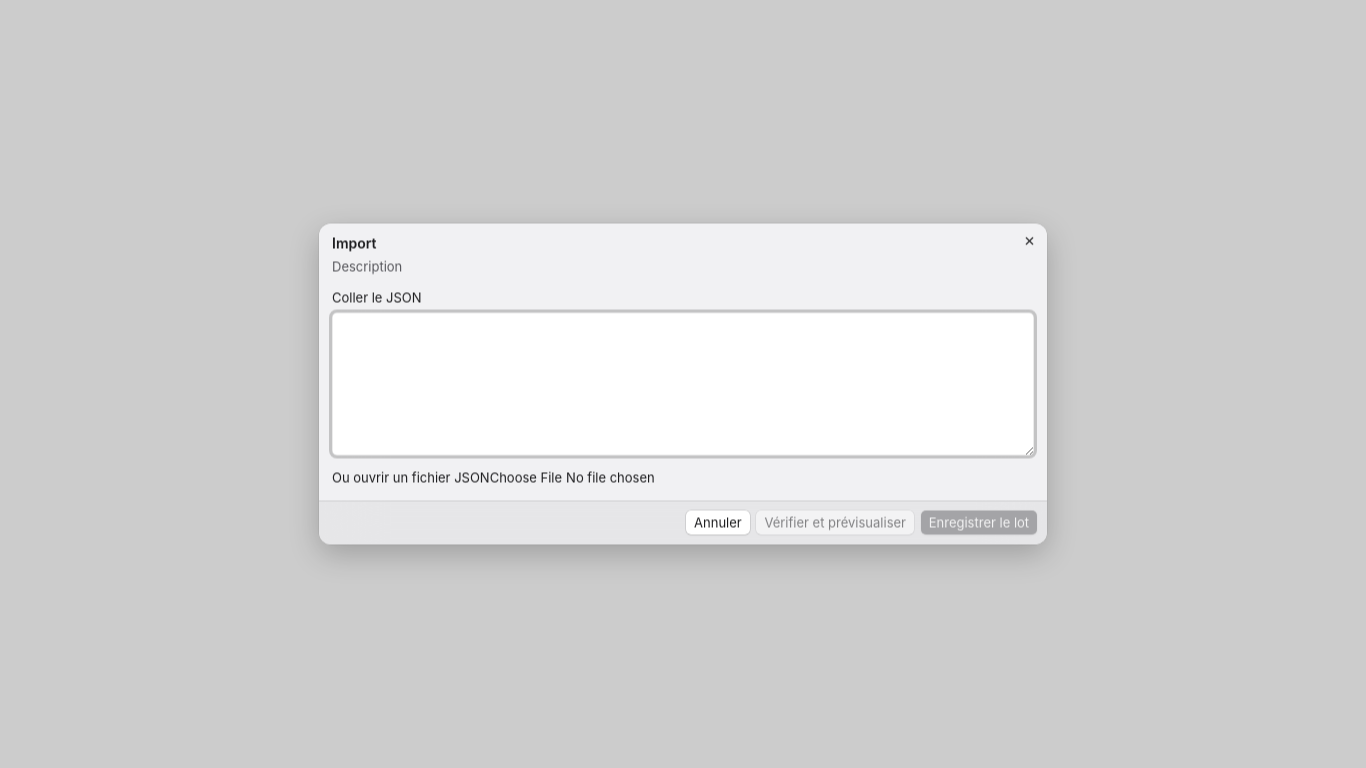
Test case: JSON batch import › shows server validation errors without applying anything
Type "bad" into the text box labelled "Coller le JSON" at (683, 384), box [332,313,1034,456]
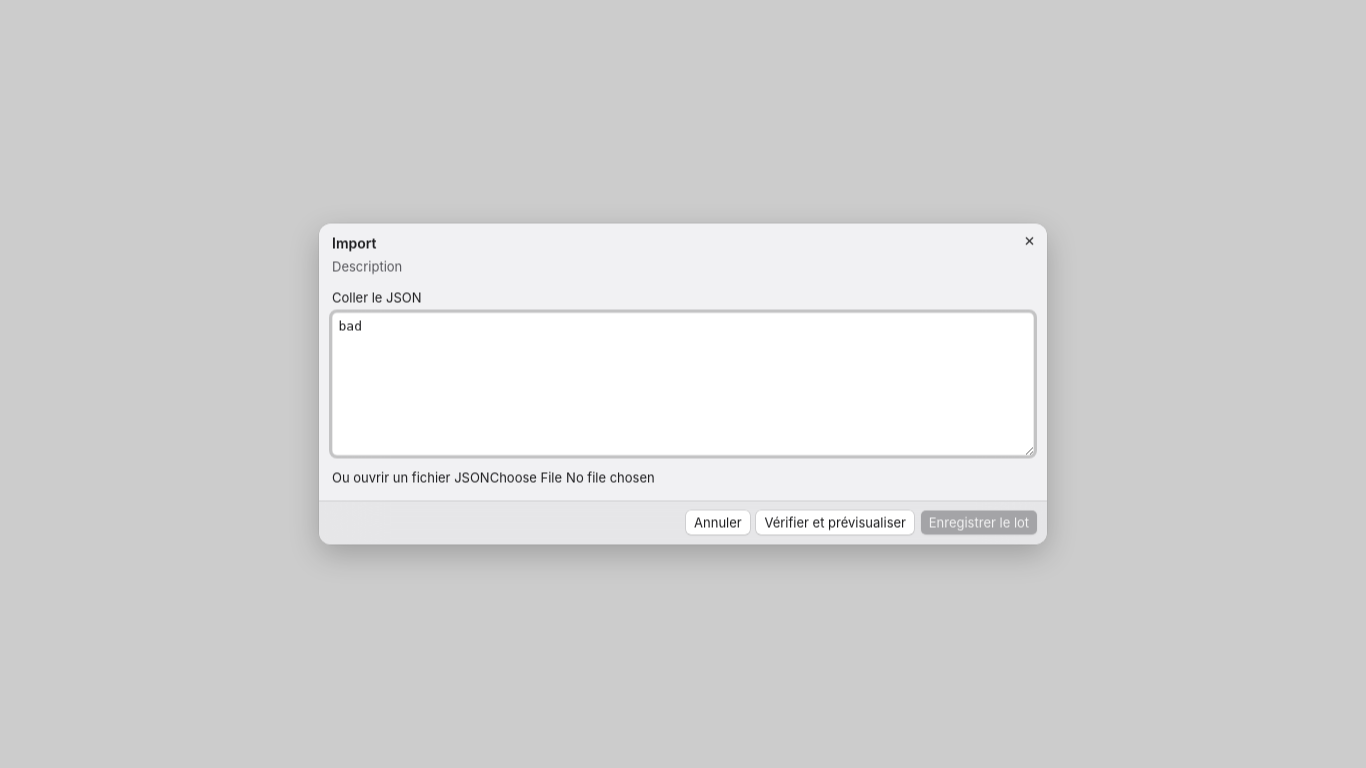
Click the button "Vérifier et prévisualiser" at (835, 523), box [756,511,914,535]
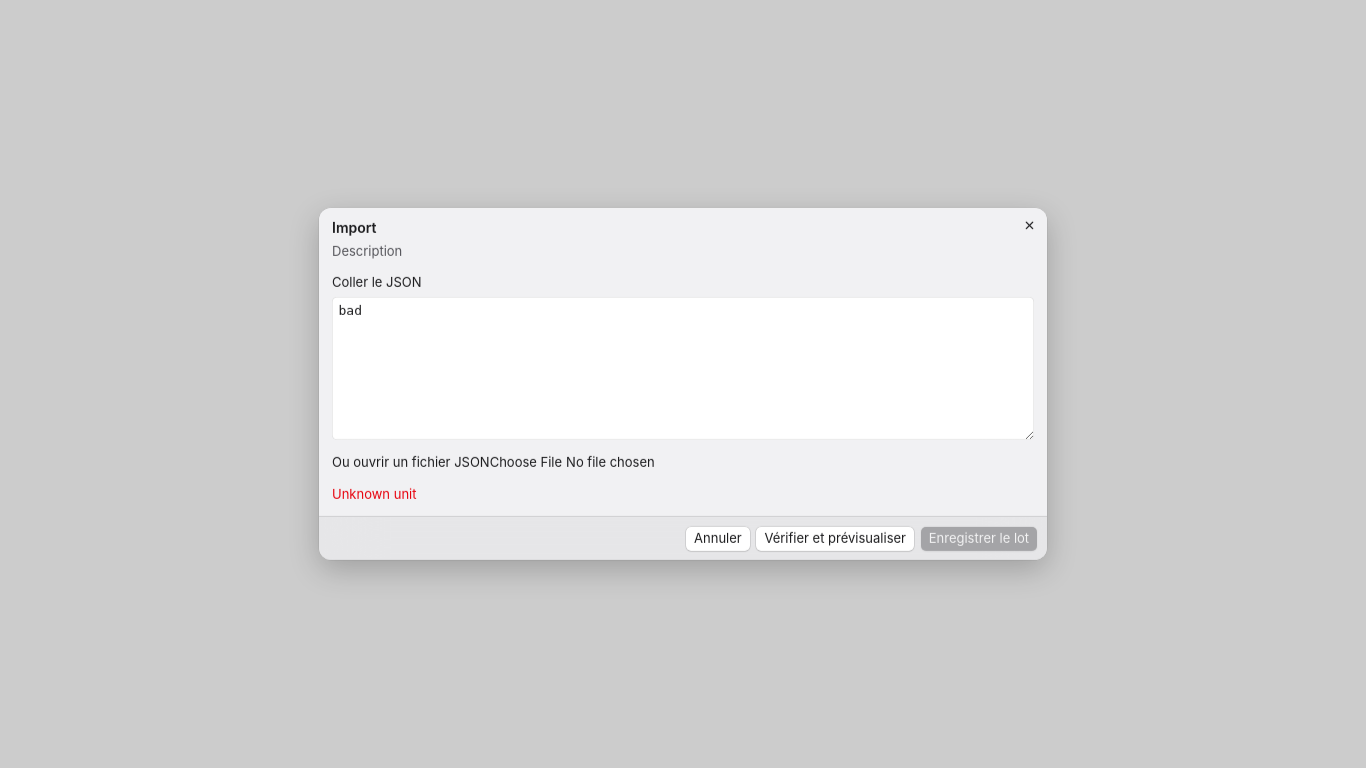
Expected: the message reads "Unknown unit", [332,485,416,501]
